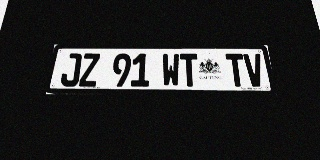1: (131, 53, 149, 87)
9: (112, 53, 131, 87)
J: (60, 53, 82, 87)
T: (225, 54, 247, 87), (180, 54, 199, 87)
V: (243, 54, 266, 87)
W: (162, 54, 180, 87)
Z: (79, 53, 100, 87)
